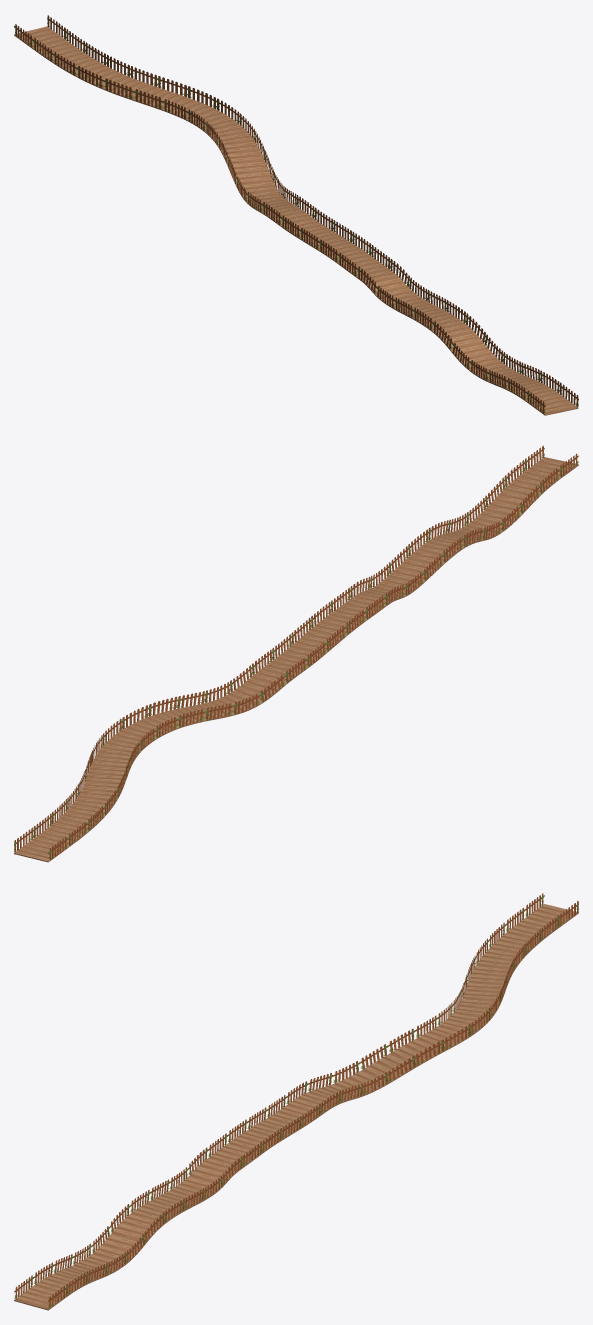
Rendered from TRACK2.fbx.
3 renders of one model, top to bottom at view 1: azimuth 30°, elevation 25°; view 2: azimuth 150°, elevation 25°; view 3: azimuth 330°, elevation 25°, orthographic. The views are drawn at different scales.
Parts seen in each view (by area): view 1: Cube.001, Cube.002; view 2: Cube.001, Cube.002; view 3: Cube.001, Cube.002.
Boxes of the visible parts, bbox=[...] form: Cube.001: bbox=[14, 26, 578, 415]; Cube.002: bbox=[14, 15, 578, 413]; Cube.001: bbox=[14, 457, 578, 862]; Cube.002: bbox=[14, 445, 578, 860]; Cube.001: bbox=[14, 904, 578, 1310]; Cube.002: bbox=[14, 893, 578, 1308].
Size of the model in its own units: 1179 by 386 by 13809.
Materials: 2 (2 with a texture image).
